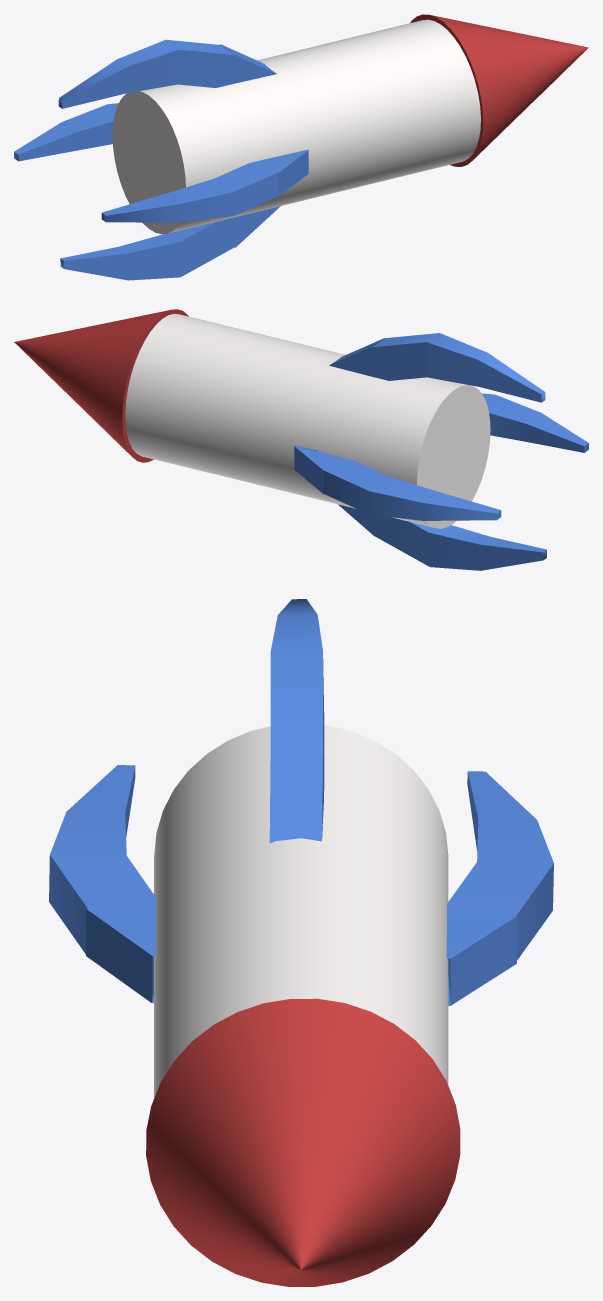
The model's file is cohete 1.fbx.
3 views of the same model, one above another, from view 1: azimuth 30°, elevation 25°; view 2: azimuth 150°, elevation 25°; view 3: azimuth 270°, elevation 25° (orthographic). The views are drawn at different scales.
Visible parts, largest first — view 1: Cilindro, Cono, Cubo_5, Cubo_4, Cubo_1, Cubo; view 2: Cilindro, Cono, Cubo_5, Cubo, Cubo_1, Cubo_4; view 3: Cilindro, Cono, Cubo_4, Cubo, Cubo_5.
Part boxes in pixels (x1=…): Cilindro: x1=112, y1=19, x2=480, y2=234; Cono: x1=410, y1=14, x2=588, y2=166; Cubo_5: x1=58, y1=39, x2=276, y2=108; Cubo_4: x1=101, y1=149, x2=308, y2=222; Cubo_1: x1=60, y1=206, x2=280, y2=280; Cubo: x1=14, y1=103, x2=118, y2=161; Cilindro: x1=125, y1=313, x2=490, y2=528; Cono: x1=14, y1=309, x2=188, y2=462; Cubo_5: x1=329, y1=333, x2=545, y2=402; Cubo: x1=294, y1=445, x2=501, y2=520; Cubo_1: x1=338, y1=504, x2=546, y2=570; Cubo_4: x1=482, y1=393, x2=588, y2=452; Cilindro: x1=154, y1=724, x2=448, y2=1098; Cono: x1=146, y1=998, x2=460, y2=1286; Cubo_4: x1=49, y1=765, x2=155, y2=1003; Cubo: x1=446, y1=771, x2=553, y2=1005; Cubo_5: x1=269, y1=599, x2=324, y2=843.
Bounding box in the file's own units: 830 × 340 × 343.
